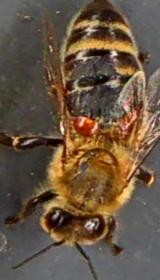varroa_mite: (66, 114, 102, 136)
